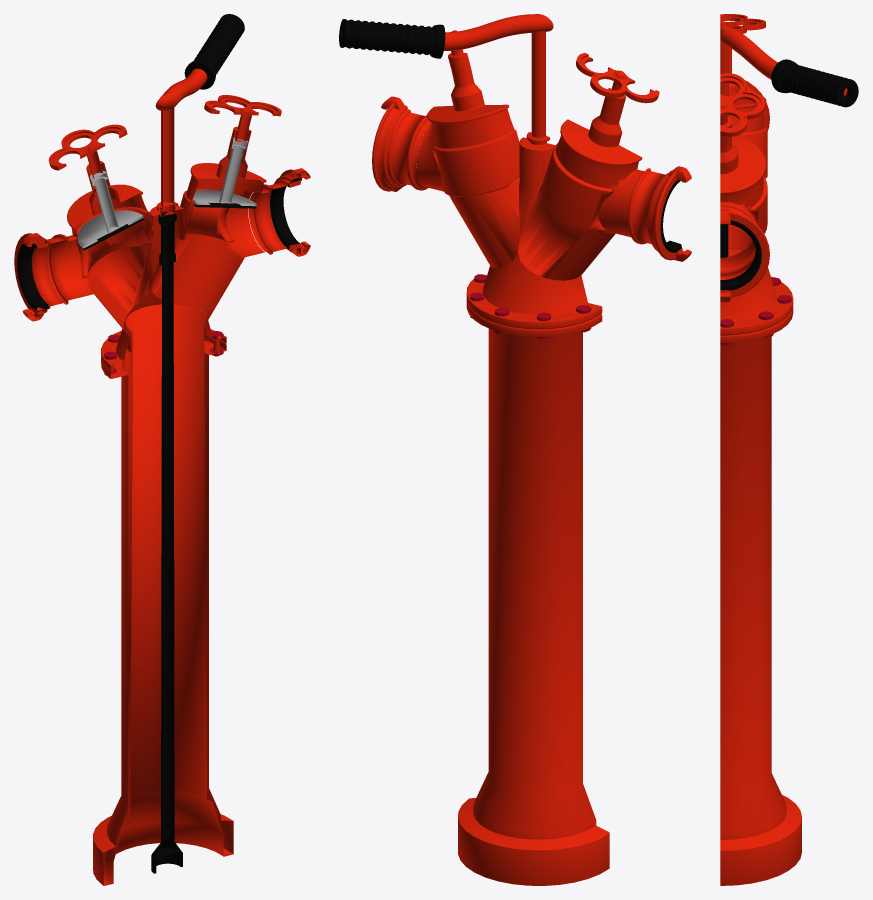
The model's file is scene_mobile.glb.
The picture shows the model from 3 angles, left to right: view 1: azimuth 30°, elevation 25°; view 2: azimuth 150°, elevation 25°; view 3: azimuth 270°, elevation 25°; orthographic projection. The views are drawn at different scales.
Bounding box in the file's own units: 2.5 × 6.61 × 0.9904.
